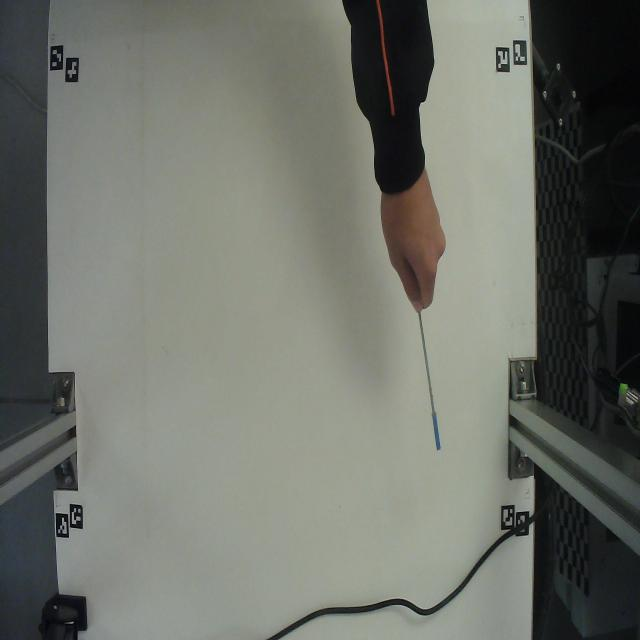NoPres: (401, 292, 453, 465)
